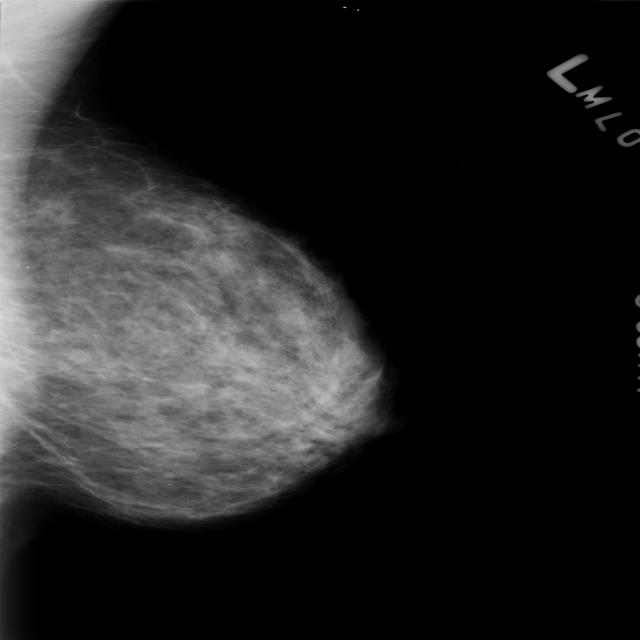normal: (0, 73, 419, 538)
